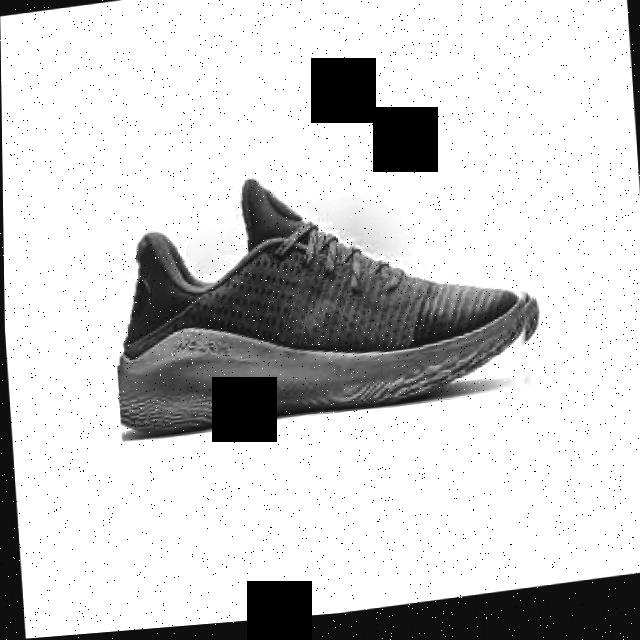shoe: (105, 150, 542, 445)
